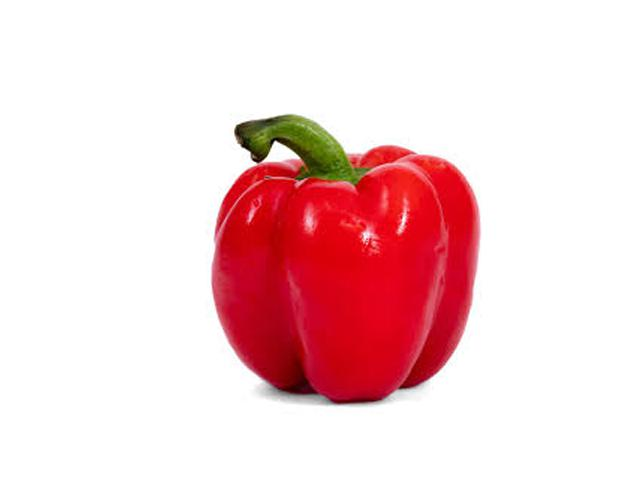bell_pepper: (203, 108, 494, 399)
